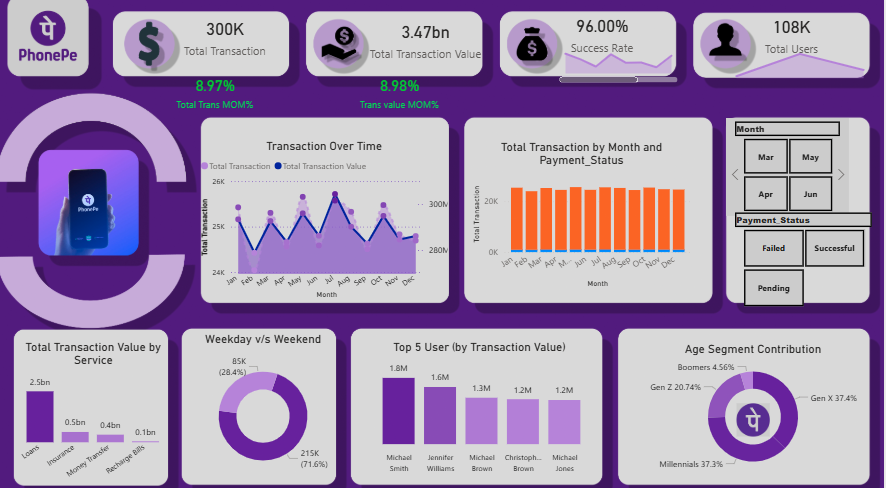

Layout of this report page (visuals, bound fields, positions):
{"tool":"powerbi","page":{"name":"Page 1","canvas":[1280,720],"ordinal":0},"visuals":[{"type":"card","fields":{"Values":["measures (2).Success Rate"]},"box":[806.4,15.8,132.5,80.6],"z":0},{"type":"card","fields":{"Values":["measures (2).Total Transaction"]},"box":[220.3,10.1,218.9,100.8],"z":1000},{"type":"card","fields":{"Values":["measures (2).Total Transaction Value"]},"box":[531.4,15.8,174.2,96.5],"z":2000},{"type":"card","fields":{"Values":["measures (2).Total Users"]},"box":[1051.2,0,188.6,115.2],"z":3000},{"type":"slicer","fields":{"Values":["Date_Table.Month"]},"box":[1051.2,178.6,177.1,141.1],"z":4000},{"type":"card","fields":{"Values":["measures (2).Total Trans MOM%"]},"box":[246.2,93.6,138.2,92.2],"z":5000},{"type":"card","fields":{"Values":["measures (2).Trans value MOM%"]},"box":[506.9,96.5,148.3,86.4],"z":6000},{"type":"areaChart","title":"Transaction Over Time","fields":{"Category":["Date_Table.Month"],"Y":["measures (2).Total Transaction"],"Y2":["measures (2).Total Transaction Value"]},"box":[288.7,209.5,366.2,234.2],"z":7000},{"type":"columnChart","fields":{"Category":["All_Transaction.Service"],"Y":["measures (2).Total Transaction Value"]},"box":[19.4,498.3,243,211.3],"z":8000},{"type":"columnChart","fields":{"Category":["Date_Table.Month"],"Y":["measures (2).Total Transaction"],"Series":["All_Transaction.Payment_Status"]},"box":[681.1,210.2,324,217.4],"z":9000},{"type":"donutChart","title":" Age Segment Contribution","fields":{"Category":["All_user.Age Segment"],"Y":["CountNonNull(All_user.User_ID)"]},"box":[900,501.1,380.2,195.8],"z":10000},{"type":"donutChart","title":"Weekday v/s Weekend","fields":{"Category":["Date_Table.weekend"],"Y":["measures (2).Total Transaction"]},"box":[276.5,486.7,216,223.2],"z":11000},{"type":"columnChart","title":"Top 5 User (by Transaction Value) ","fields":{"Category":["All_user.Name"],"Y":["measures (2).Total Transaction Value"]},"box":[519.4,498.3,352.1,199],"z":12000},{"type":"slicer","fields":{"Values":["All_Transaction.Payment_Status"]},"box":[1051.2,309.6,223.2,146.9],"z":13000},{"type":"image","box":[1061.3,580.3,57.6,66.2],"z":14000},{"type":"lineChart","fields":{"Category":["Date_Table.Month"],"Y":["measures (2).Success Rate"]},"box":[806.4,66.2,180,66.2],"z":15000},{"type":"lineChart","fields":{"Category":["All_user.Join_Date.Variation.Date Hierarchy.Year"],"Y":["measures (2).Total Users"]},"box":[1051.2,66.2,213.1,60.5],"z":16000}]}

Visuals, with their boxes in screenshot pixels (x1, y1, x2, y2), scaled from the page's 1280x720 canvas onto the 886x488 screenshot:
card - measures (2).Success Rate: [left=558, top=11, right=650, bottom=65]
card - measures (2).Total Transaction: [left=152, top=7, right=304, bottom=75]
card - measures (2).Total Transaction Value: [left=368, top=11, right=488, bottom=76]
card - measures (2).Total Users: [left=728, top=0, right=858, bottom=78]
slicer - Date_Table.Month: [left=728, top=121, right=850, bottom=217]
card - measures (2).Total Trans MOM%: [left=170, top=63, right=266, bottom=126]
card - measures (2).Trans value MOM%: [left=351, top=65, right=454, bottom=124]
"Transaction Over Time" areaChart: [left=200, top=142, right=453, bottom=301]
columnChart - All_Transaction.Service x measures (2).Total Transaction Value: [left=13, top=338, right=182, bottom=481]
columnChart - Date_Table.Month x measures (2).Total Transaction: [left=471, top=142, right=696, bottom=290]
" Age Segment Contribution" donutChart: [left=623, top=340, right=885, bottom=472]
"Weekday v/s Weekend" donutChart: [left=191, top=330, right=341, bottom=481]
"Top 5 User (by Transaction Value) " columnChart: [left=360, top=338, right=603, bottom=473]
slicer - All_Transaction.Payment_Status: [left=728, top=210, right=882, bottom=309]
image: [left=735, top=393, right=774, bottom=438]
lineChart - Date_Table.Month x measures (2).Success Rate: [left=558, top=45, right=683, bottom=90]
lineChart - All_user.Join_Date.Variation.Date Hierarchy.Year x measures (2).Total Users: [left=728, top=45, right=875, bottom=86]
